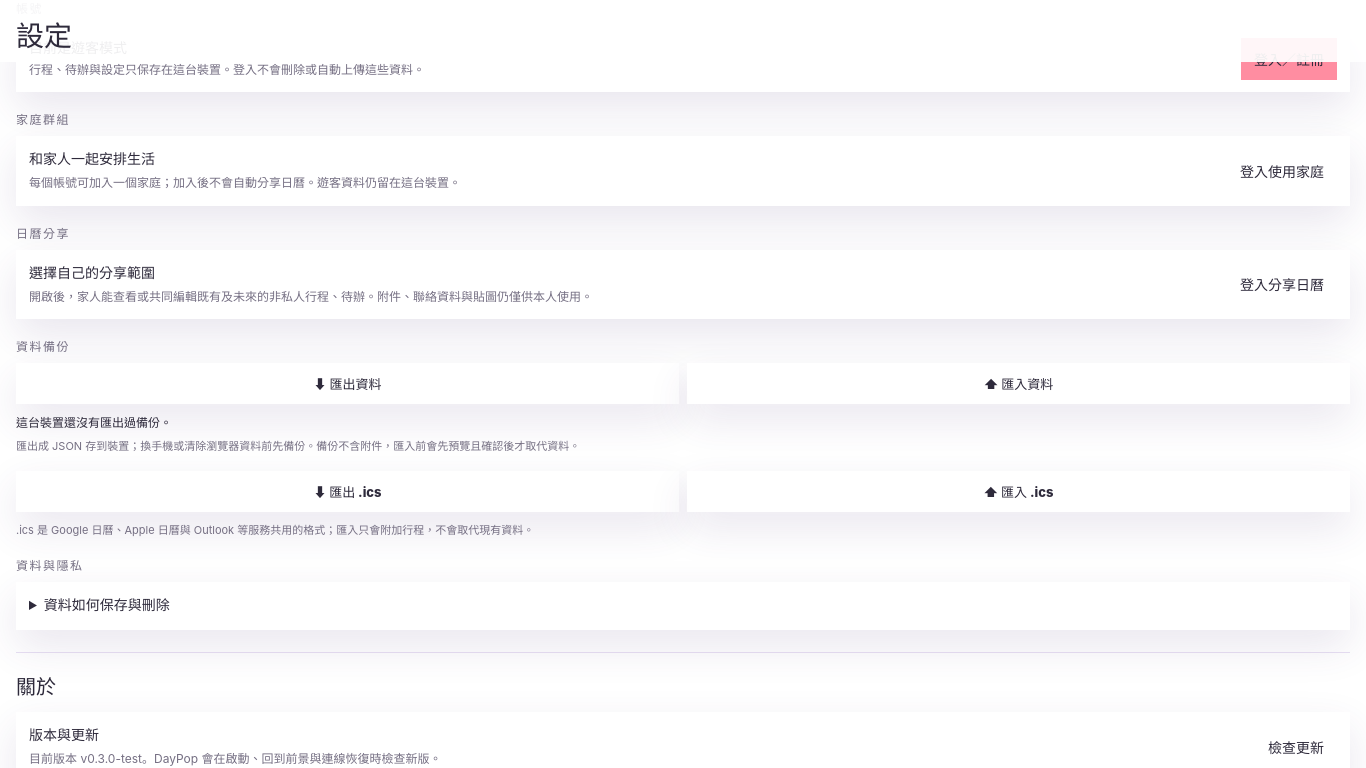
Scenario: 設定 上次匯出 › records the exported file and shows it in the display timezone, also after a remount
(page scrolled)
Click the button "⬇ 匯出資料": (348, 384) x1=16 y1=363 x2=679 y2=404
(page scrolled)
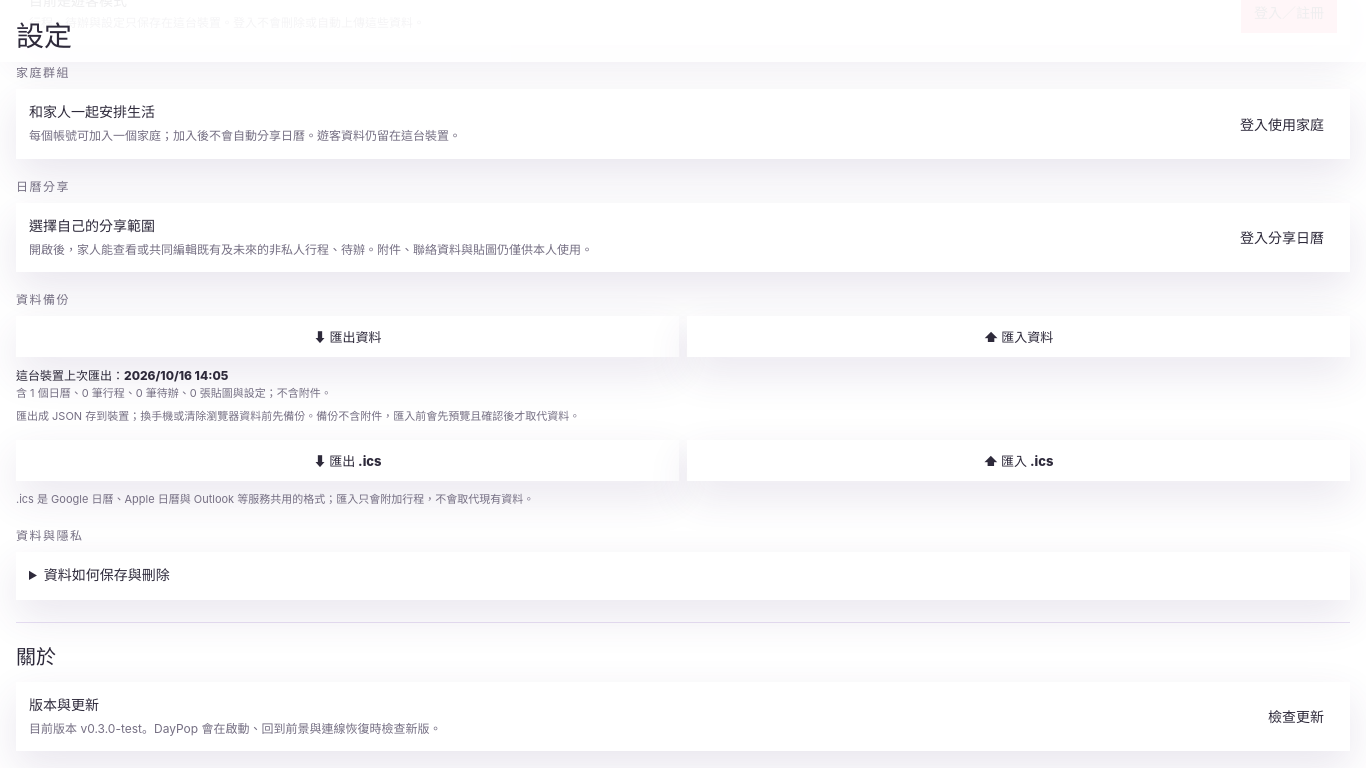
Now the element with class "data-backup-last" reads "這台裝置上次匯出：2026/10/16 14:05 含 1 個日曆、0 筆行程、0 筆待辦、0 張貼圖與設定；不含附件。", box x1=16 y1=368 x2=332 y2=400
Now the element with class "data-backup-last" shows "這台裝置上次匯出：2026/10/16 14:05", box x1=16 y1=368 x2=332 y2=400
